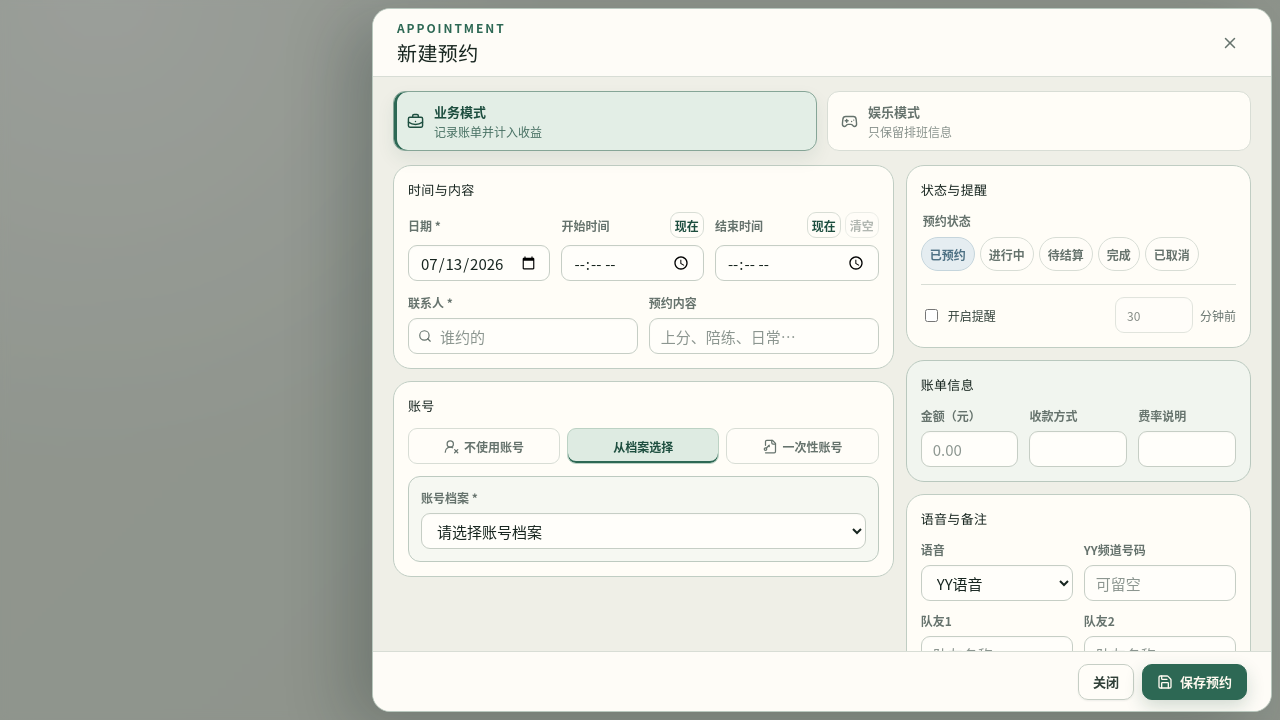
Scenario: AppointmentDrawer › requires an amount before a business appointment can be settled
Click the radio button labelled "完成" at point(1119, 254), box [1098,237,1140,271]
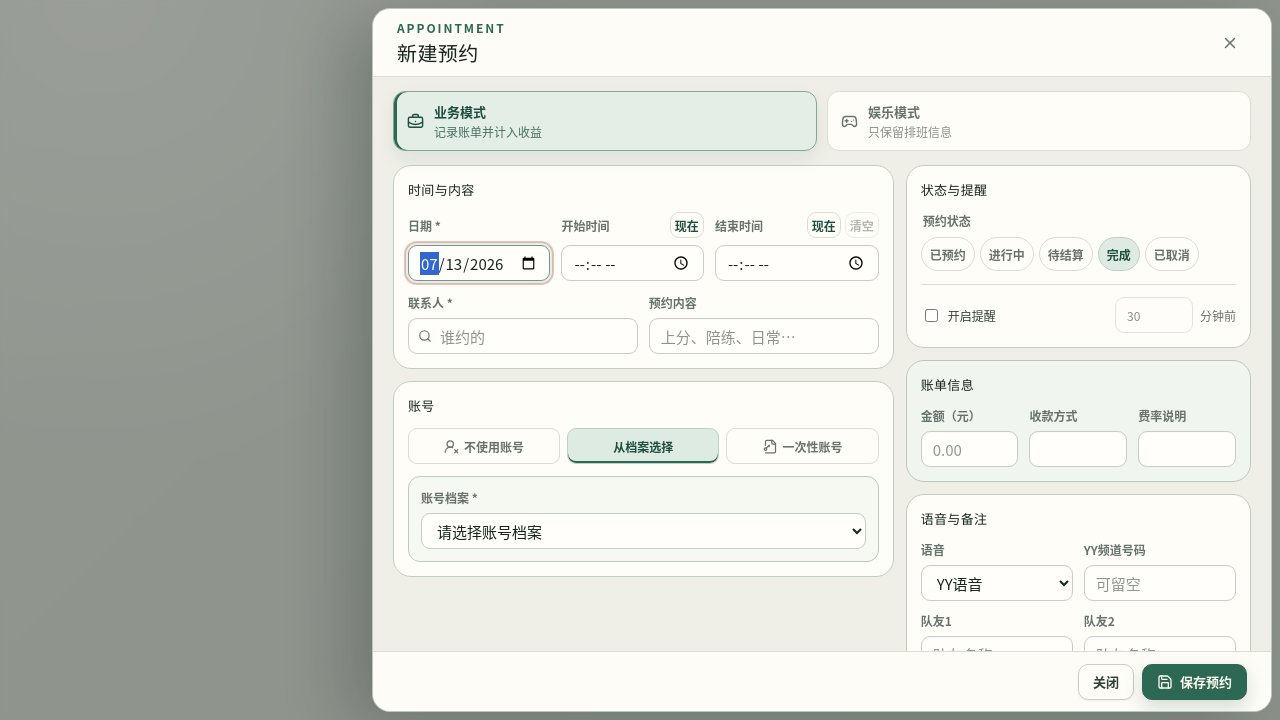
Click the submit button at point(1194, 682), box [1142,664,1247,700]
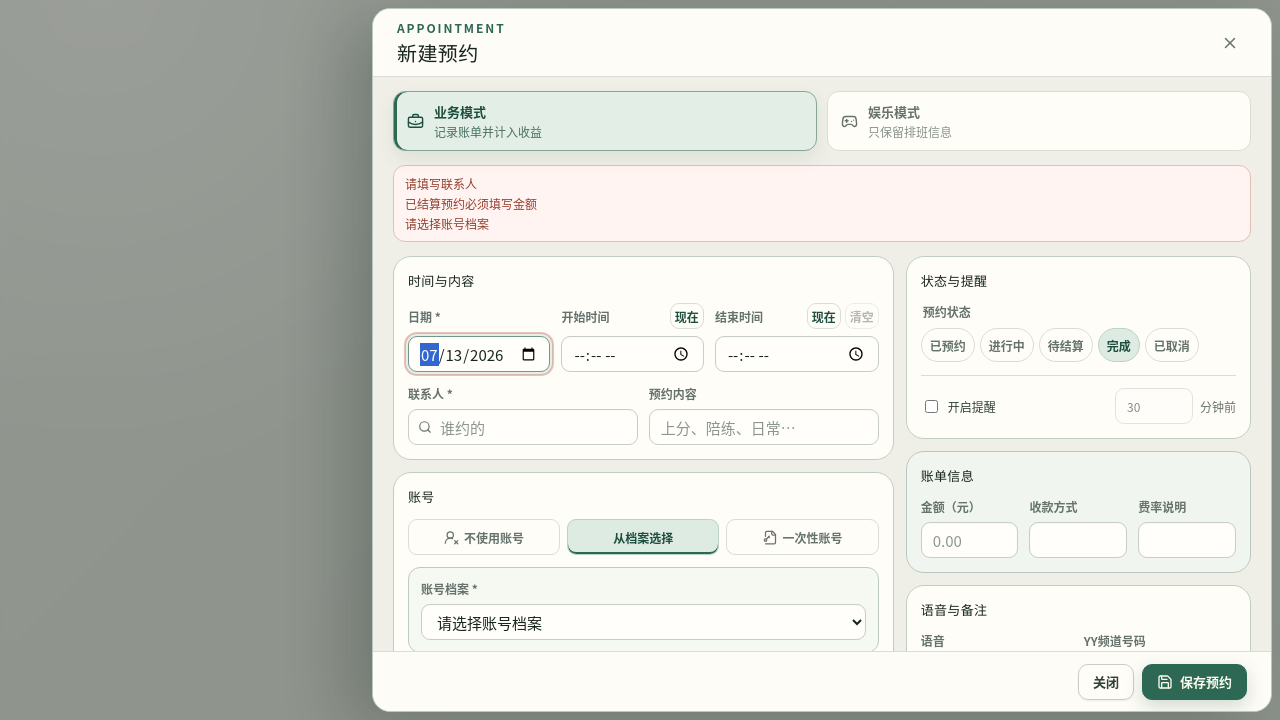
Result: the text "已结算预约必须填写金额" is shown at [405,195,537,212]
